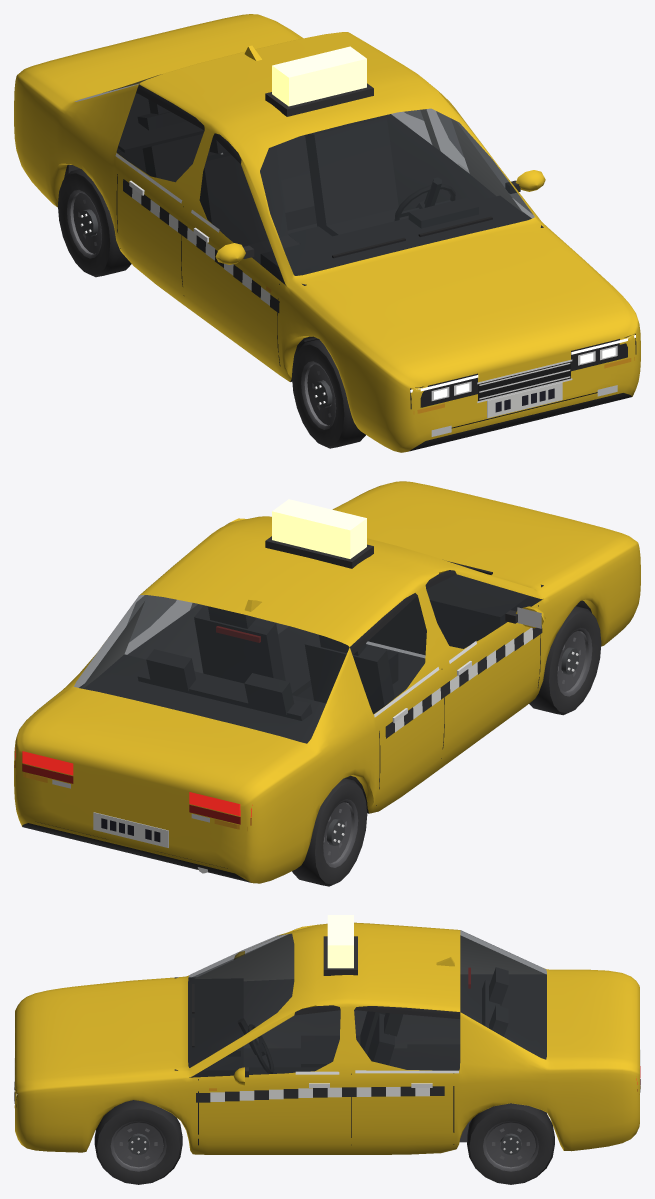
File: taxi.glb
The picture shows the model from 3 angles, top to bottom: view 1: azimuth 30°, elevation 25°; view 2: azimuth 150°, elevation 25°; view 3: azimuth 270°, elevation 25°; orthographic projection. The views are drawn at different scales.
Parts seen in each view (by area): view 1: taxi_body, Wheel_FR, Wheel_RR; view 2: taxi_body, Wheel_RR, Wheel_FR; view 3: taxi_body, Wheel_FL, Wheel_RL.
Part boxes in pixels (x1,y1,x2,y2): taxi_body: (14, 14, 640, 452); Wheel_FR: (292, 339, 365, 448); Wheel_RR: (58, 169, 131, 277); taxi_body: (14, 481, 640, 883); Wheel_RR: (292, 778, 367, 886); Wheel_FR: (529, 606, 601, 715); taxi_body: (14, 915, 640, 1154); Wheel_FL: (94, 1100, 182, 1184); Wheel_RL: (467, 1103, 554, 1184).
Size of the model in its own units: 0.1135 by 0.0855 by 0.2358.
Materials: 8 (1 with a texture image).
